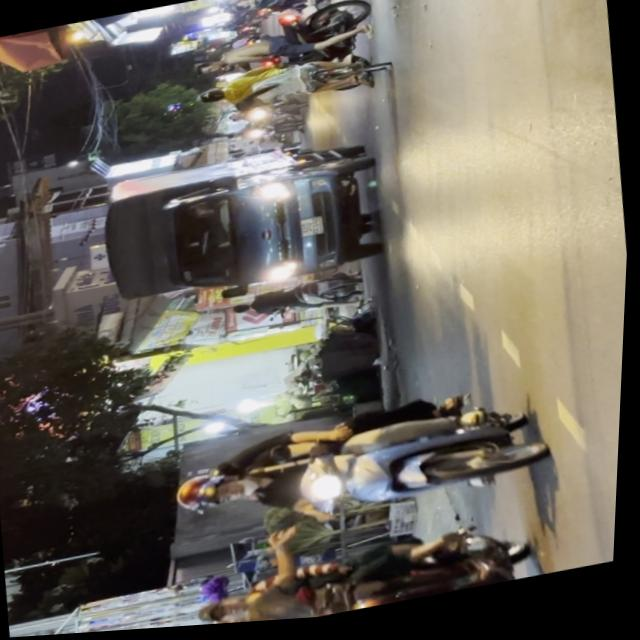helmet: (186, 473, 260, 518)
licenseplate: (167, 382, 558, 554), (181, 516, 561, 629)
motorcyclist: (197, 597, 256, 629), (188, 614, 257, 629)
